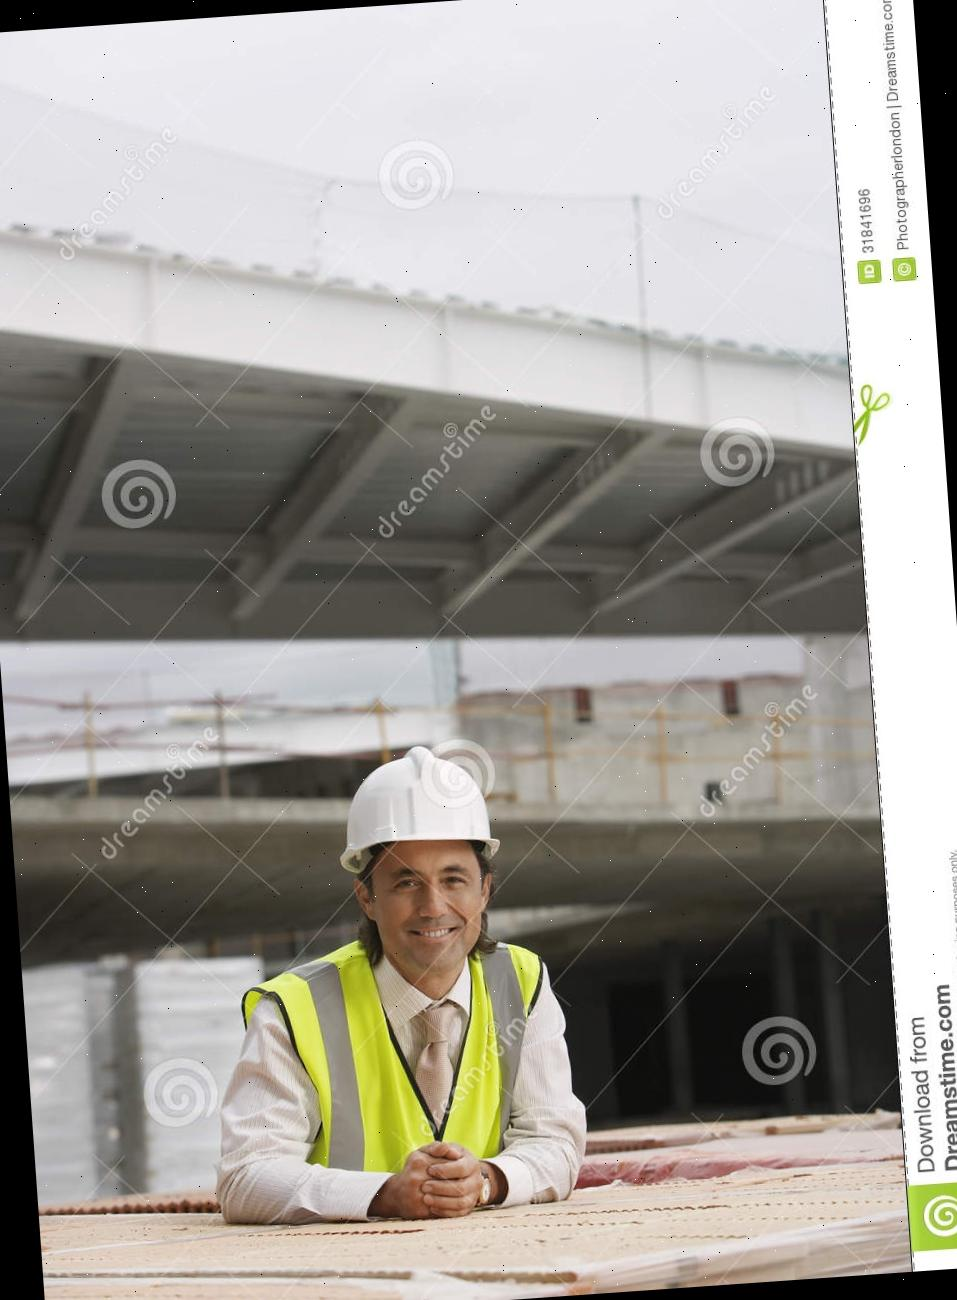helmet: (333, 743, 504, 872)
wear: (225, 950, 588, 1229)
